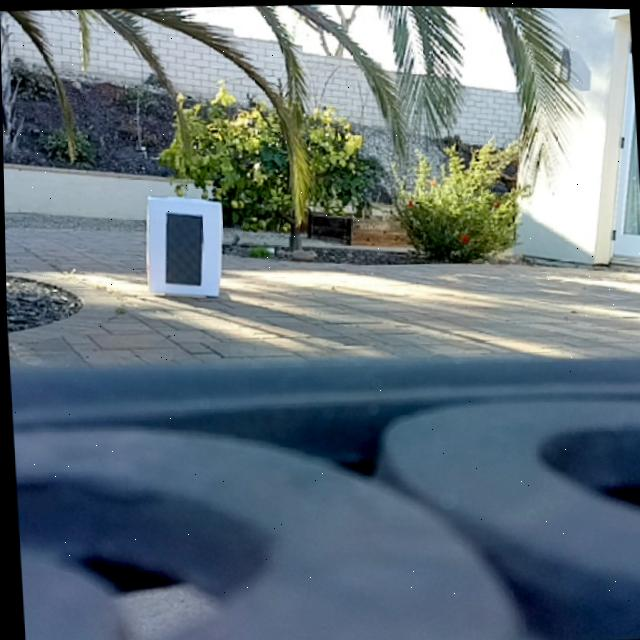led: (159, 208, 206, 288)
